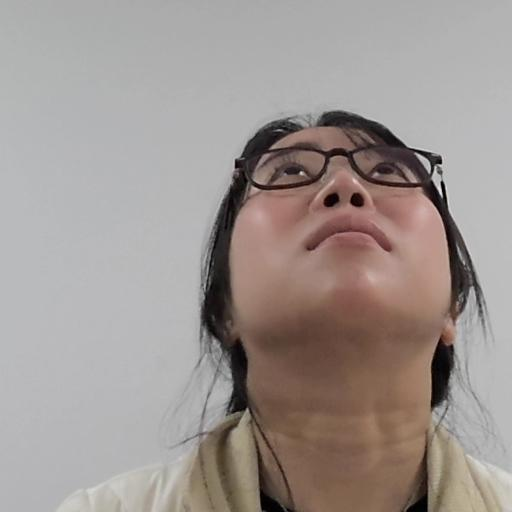no_glasses: (222, 111, 475, 403)
